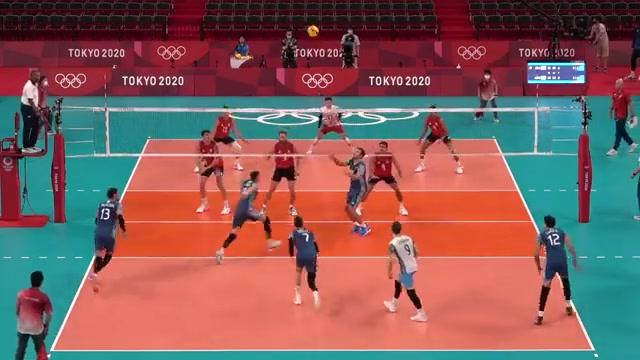ball: (304, 24, 321, 39)
